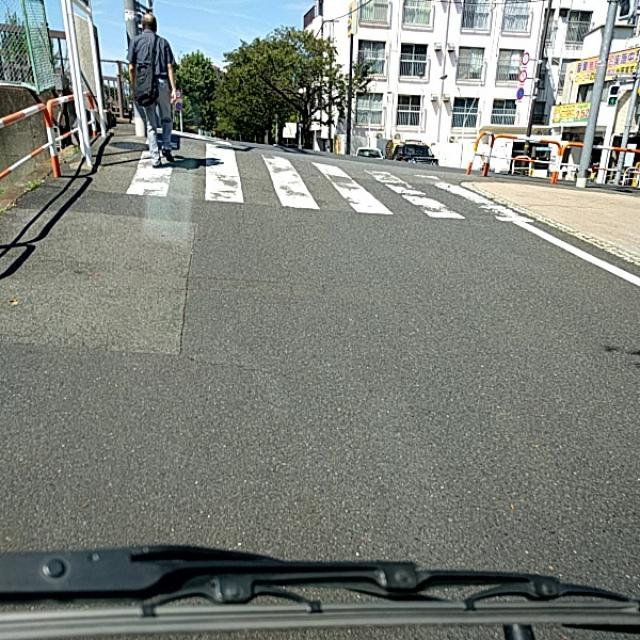pothole: (163, 267, 209, 372)
